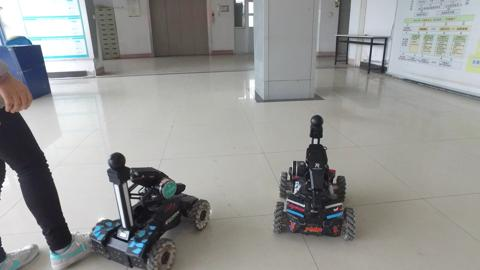chariot: (87, 148, 217, 270), (271, 109, 362, 244)
